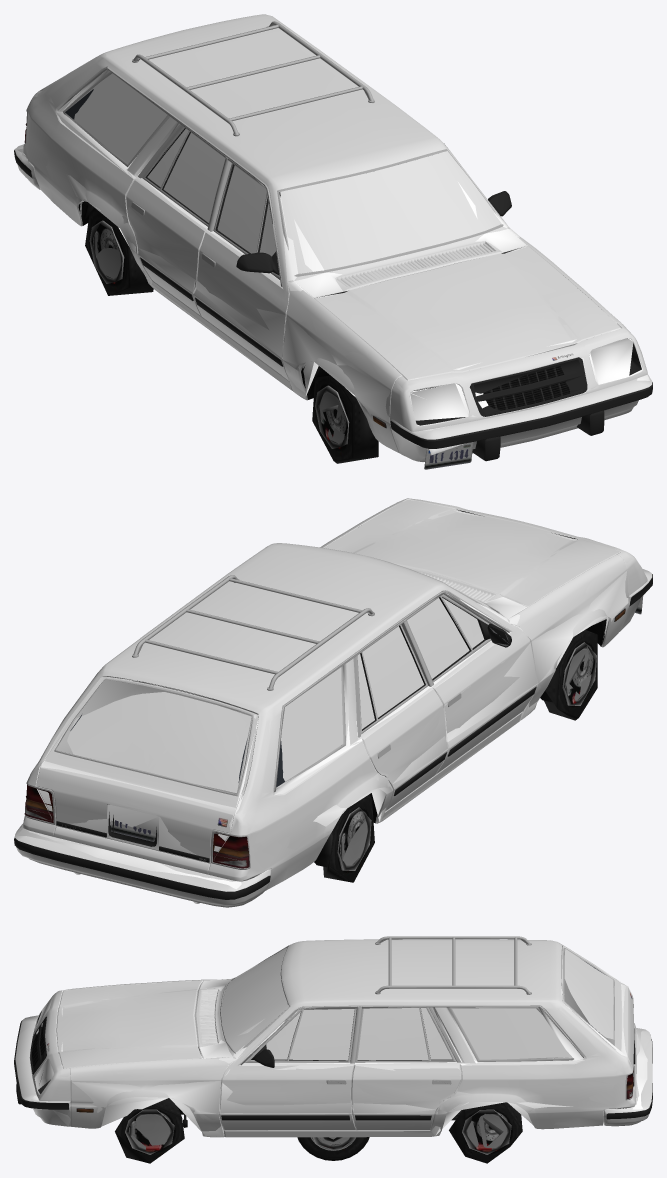
Rendered from fairheaven.glb.
3 views of the same model, one above another, from view 1: azimuth 30°, elevation 25°; view 2: azimuth 150°, elevation 25°; view 3: azimuth 270°, elevation 25° (orthographic). The views are drawn at different scales.
Parts seen in each view (by area): view 1: paint0, far, glass0, paint1, kit0, glass1, kit1; view 2: paint0, far, paint1, glass0, kit0, glass1, kit1; view 3: paint0, far, paint1, glass0, kit0, glass1, kit1, wheel0, wheel1.
Part boxes in pixels (left/top/right/bottom): paint0: left=14, top=14, right=652, bottom=461; far: left=17, top=24, right=652, bottom=463; glass0: left=66, top=73, right=499, bottom=272; paint1: left=15, top=14, right=651, bottom=461; kit0: left=14, top=21, right=652, bottom=469; glass1: left=66, top=74, right=501, bottom=273; kit1: left=25, top=28, right=651, bottom=469; paint0: left=15, top=498, right=652, bottom=907; far: left=17, top=499, right=628, bottom=907; paint1: left=14, top=498, right=651, bottom=907; glass0: left=67, top=589, right=494, bottom=792; kit0: left=14, top=545, right=652, bottom=903; glass1: left=73, top=595, right=498, bottom=787; kit1: left=26, top=509, right=652, bottom=903; paint0: left=15, top=939, right=652, bottom=1137; far: left=31, top=939, right=647, bottom=1163; paint1: left=15, top=939, right=652, bottom=1136; glass0: left=222, top=947, right=613, bottom=1060; kit0: left=14, top=936, right=652, bottom=1127; glass1: left=234, top=949, right=613, bottom=1060; kit1: left=18, top=937, right=635, bottom=1119; wheel0: left=297, top=1137, right=369, bottom=1160; wheel1: left=306, top=1137, right=360, bottom=1158.
Bounding box in the file's own units: 1.86 × 1.7 × 5.03.
Materials: 1 (1 with a texture image).
